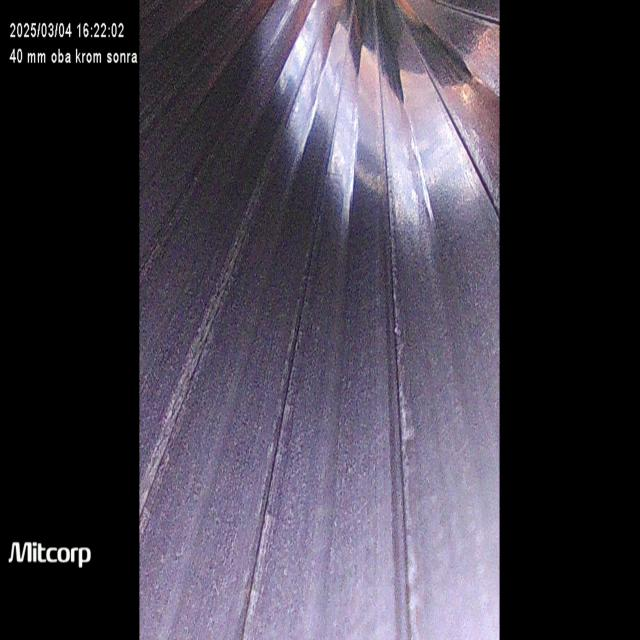hata_8.1: (375, 169, 425, 640)
